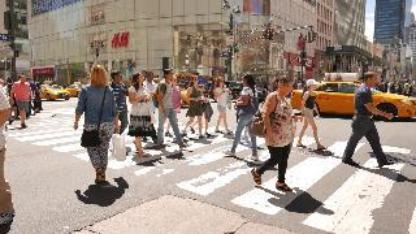bag: (79, 122, 102, 150)
person: (248, 73, 308, 195), (338, 69, 398, 171), (77, 62, 117, 187), (126, 72, 157, 166), (155, 66, 188, 154), (10, 72, 35, 132)
